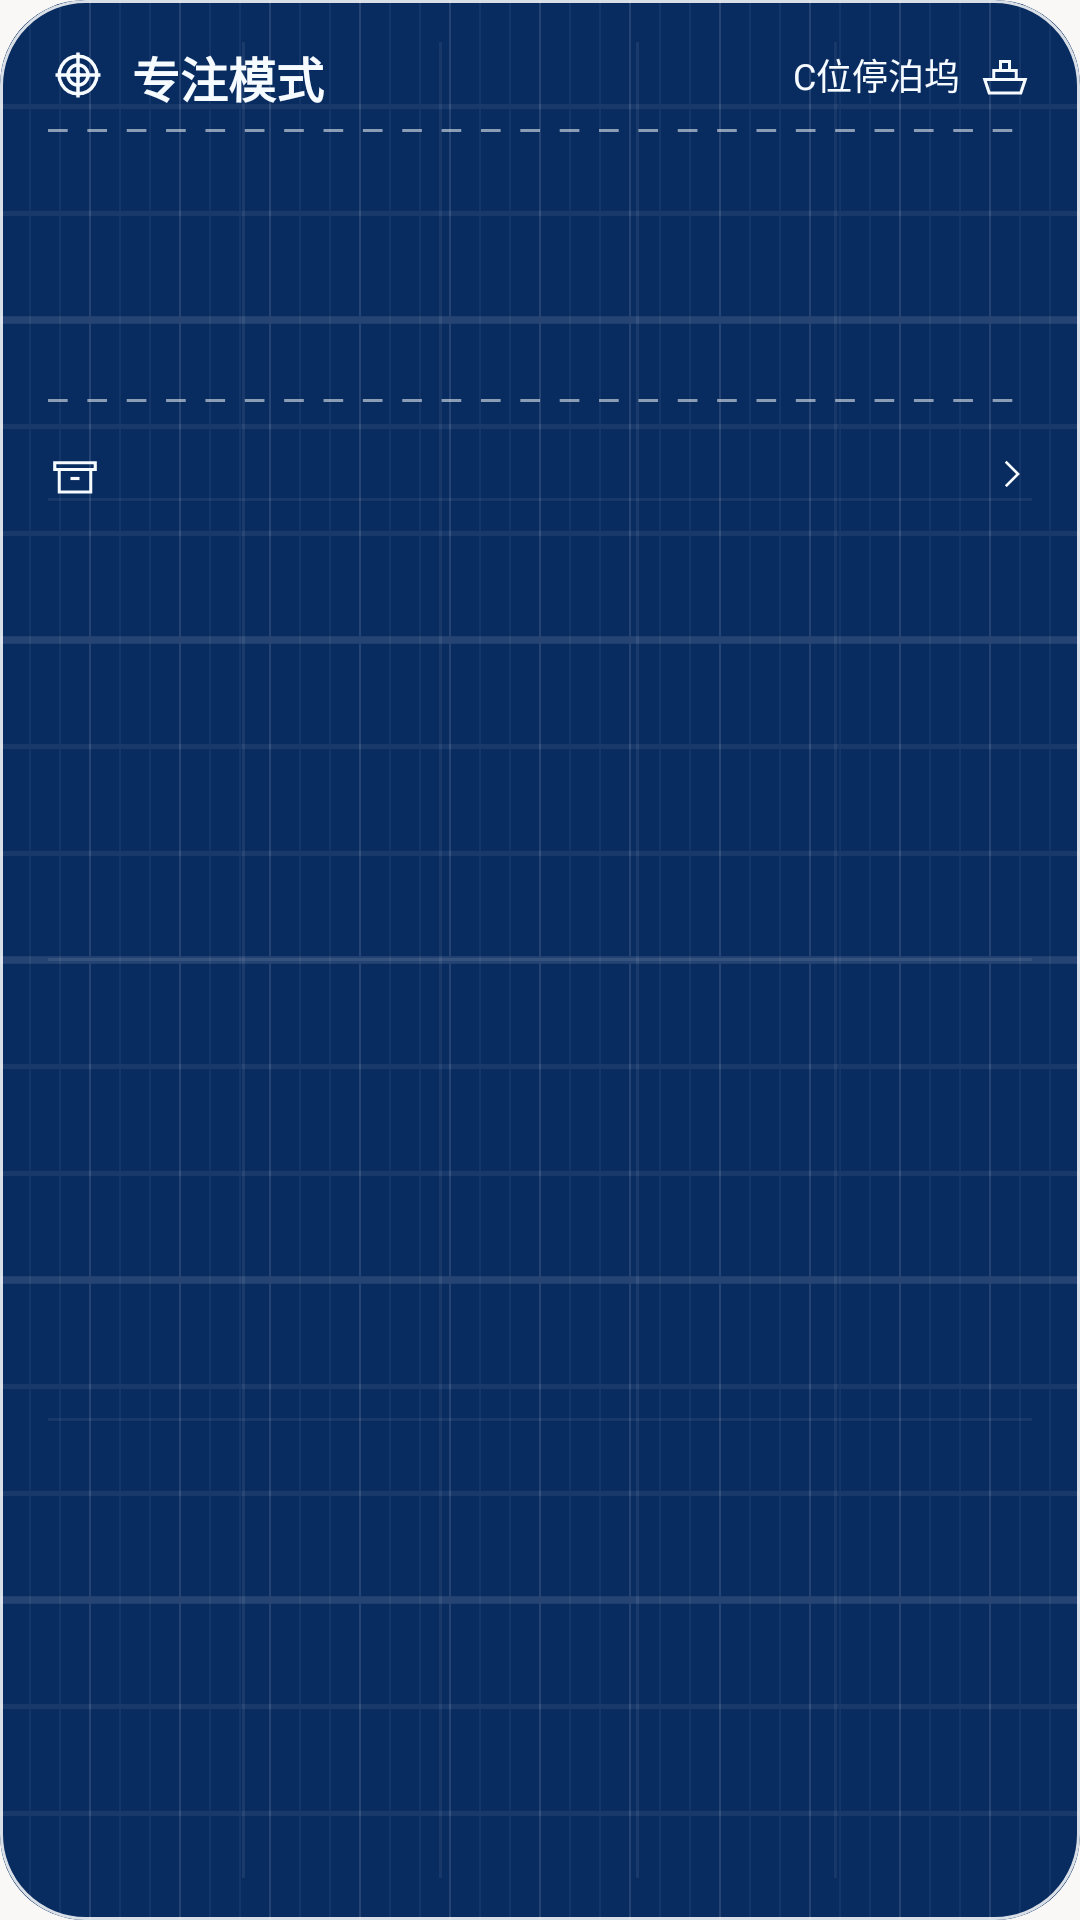

Screen size 1080*1920. Icon name, then its center in pixels as [x,y]:
nano widget archive: [75,474]
nano widget chevron: [1012,474]
nano widget target: [78,75]
